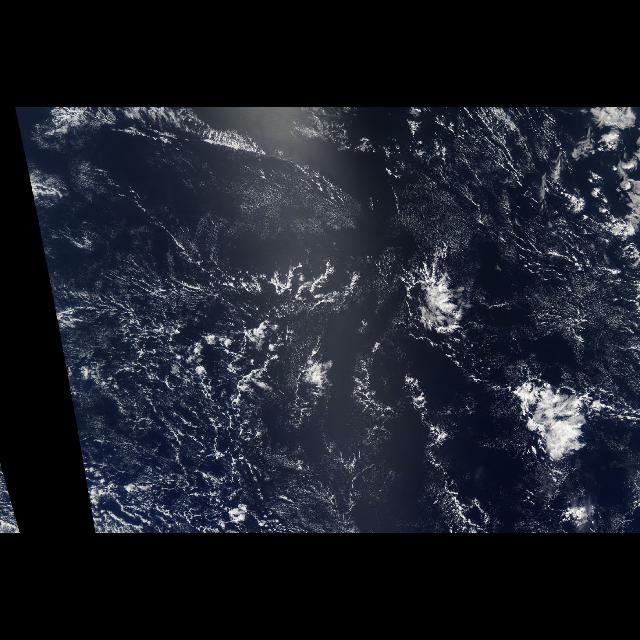Flower: (466, 352, 622, 488)
Gravel: (49, 225, 385, 532)
Sugar: (24, 110, 640, 338), (388, 364, 487, 528)
